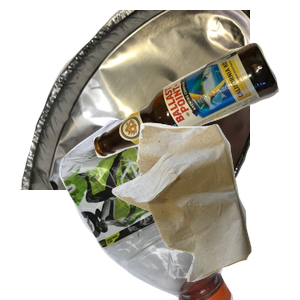glass: (91, 40, 300, 190)
metal: (18, 10, 258, 190)
plastic: (57, 120, 293, 300)
trash: (109, 120, 300, 300)
